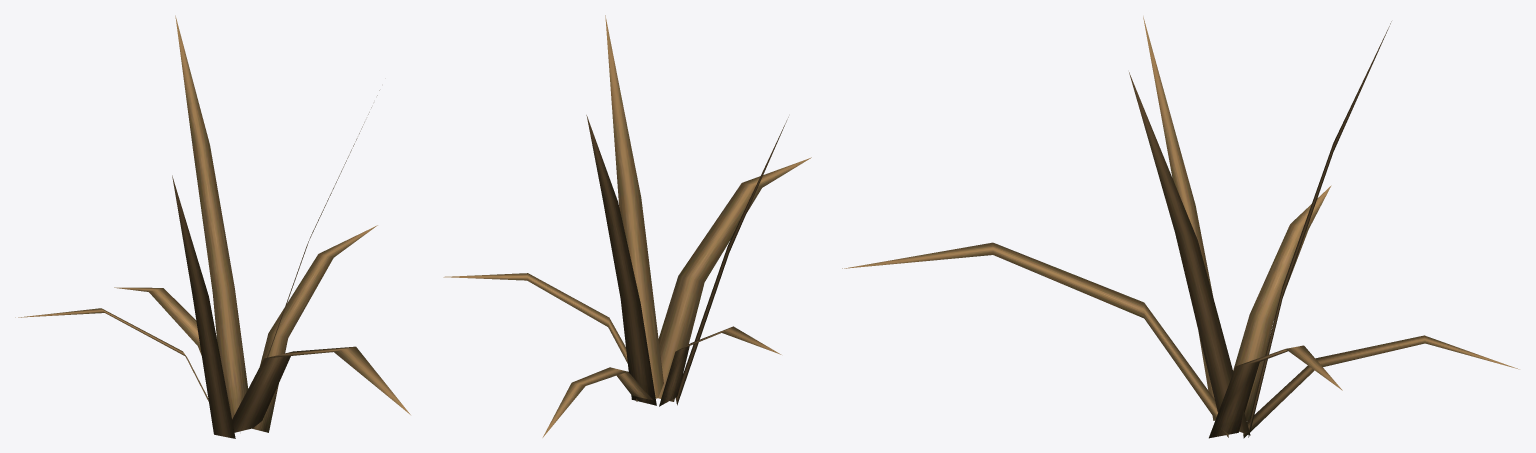
File: INST_OH_NGRASS_TUFT_01.fbx
3 renders of one model, left to right at view 1: azimuth 30°, elevation 25°; view 2: azimuth 150°, elevation 25°; view 3: azimuth 270°, elevation 25°, orthographic. The views are drawn at different scales.
Parts seen in each view (by area): view 1: INST_OH_NGRASS_TUFT_01; view 2: INST_OH_NGRASS_TUFT_01; view 3: INST_OH_NGRASS_TUFT_01.
Part boxes in pixels (x1,y1,x2,y2): INST_OH_NGRASS_TUFT_01: [15, 15, 410, 438]; INST_OH_NGRASS_TUFT_01: [443, 15, 811, 437]; INST_OH_NGRASS_TUFT_01: [842, 16, 1519, 438].
Size of the model in its own units: 2105 by 1982 by 2943.
1 material, 1 textured.
